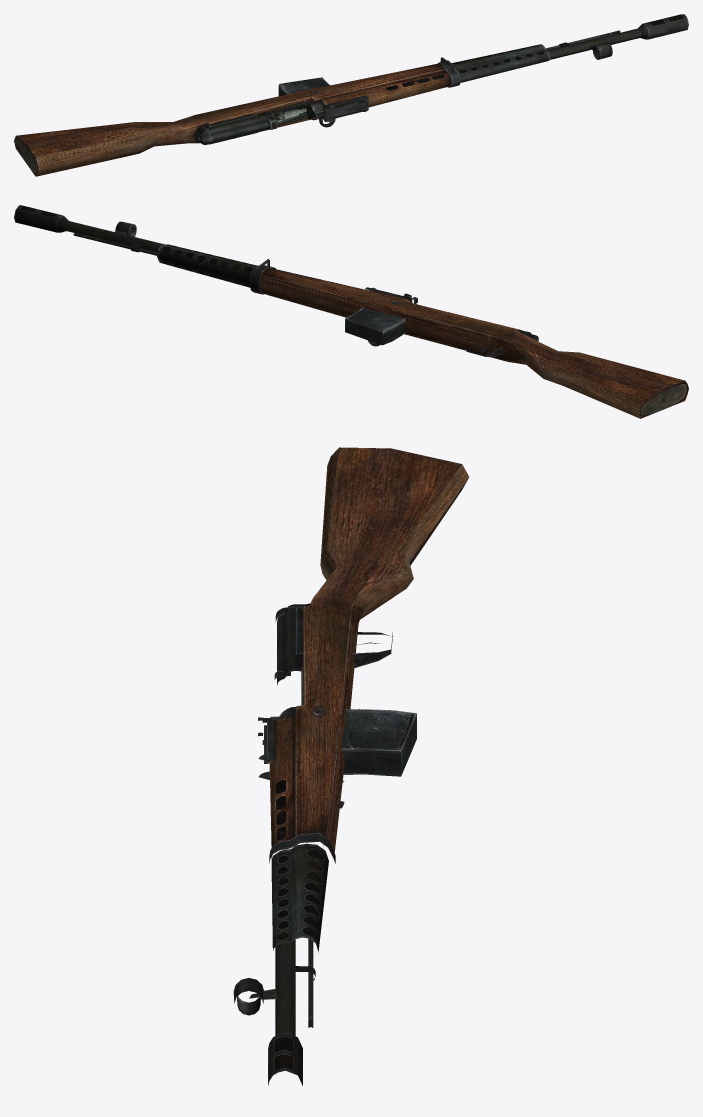
File: viewmodel_svt40.glb
3 renders of one model, top to bottom at view 1: azimuth 30°, elevation 25°; view 2: azimuth 150°, elevation 25°; view 3: azimuth 270°, elevation 25°, orthographic. The views are drawn at different scales.
Bounding box in the file's own units: 49.86 × 3.28 × 8.01.
Materials: 1 (1 with a texture image).
